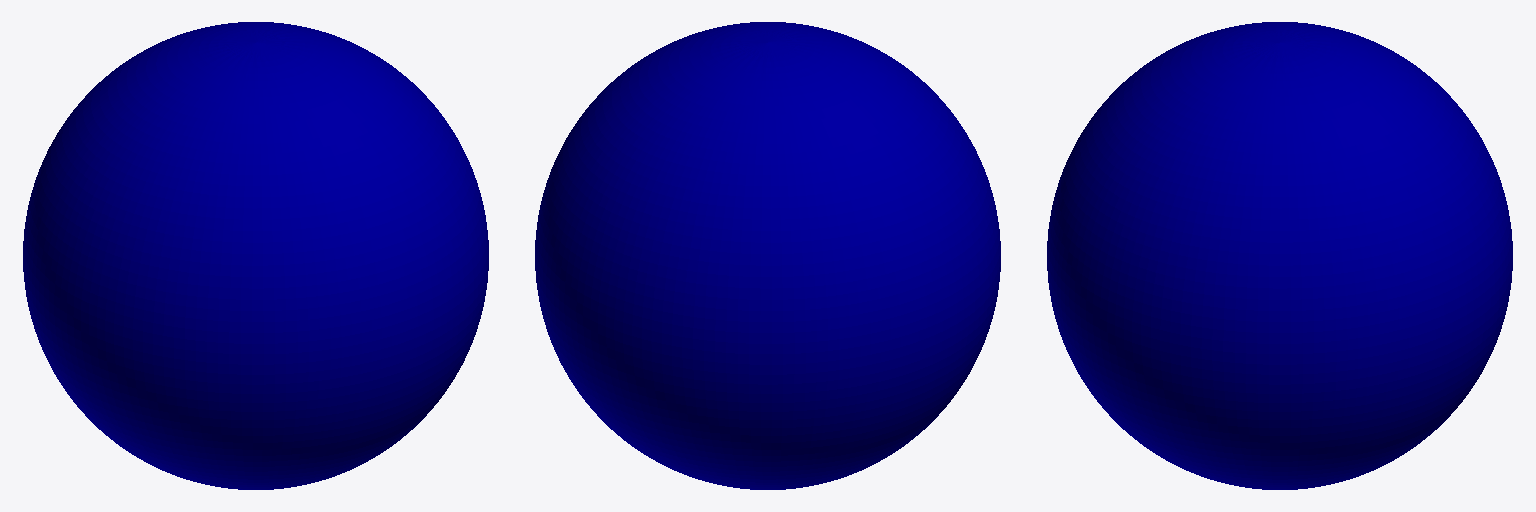
Rendered from orb.obj.
3 views of the same model, side by side, from view 1: azimuth 30°, elevation 25°; view 2: azimuth 150°, elevation 25°; view 3: azimuth 270°, elevation 25° (orthographic).
Visible parts, largest first — view 1: Sphere; view 2: Sphere; view 3: Sphere.
Boxes of the visible parts, x1,y1,x2,y2 form: Sphere: [23, 22, 488, 489]; Sphere: [535, 22, 1000, 489]; Sphere: [1047, 22, 1512, 489].
Bounding box in the file's own units: 1.98 × 2 × 1.98.